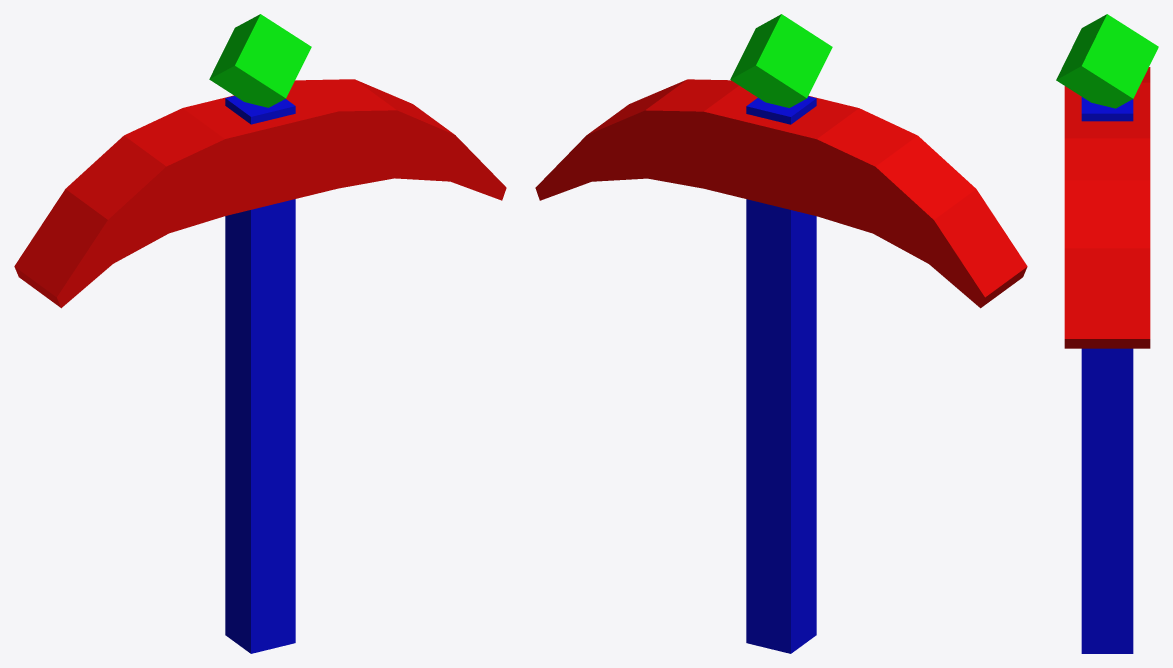
File: pick.glb
3 views of the same model, side by side, from view 1: azimuth 30°, elevation 25°; view 2: azimuth 150°, elevation 25°; view 3: azimuth 270°, elevation 25° (orthographic).
Parts seen in each view (by area): view 1: AxeHead_Node, Handle_Node, Cube; view 2: AxeHead_Node, Handle_Node, Cube; view 3: AxeHead_Node, Handle_Node, Cube.
Part boxes in pixels (x1,y1,x2,y2): AxeHead_Node: (14, 79, 506, 308); Handle_Node: (225, 96, 295, 653); Cube: (209, 14, 311, 107); AxeHead_Node: (535, 79, 1027, 308); Handle_Node: (746, 96, 816, 653); Cube: (730, 14, 832, 107); AxeHead_Node: (1064, 67, 1150, 348); Handle_Node: (1081, 97, 1133, 653); Cube: (1056, 14, 1158, 108).
Size of the model in its own units: 2.79 by 3.7 by 0.5491.
